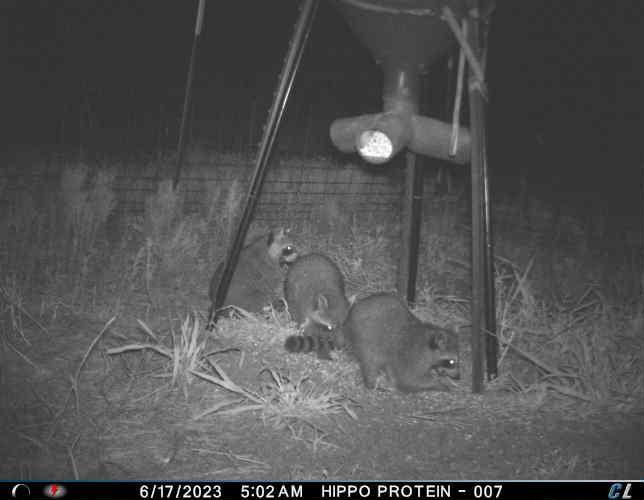Raccoon: (284, 292, 463, 398), (207, 225, 298, 317), (282, 252, 350, 335)
